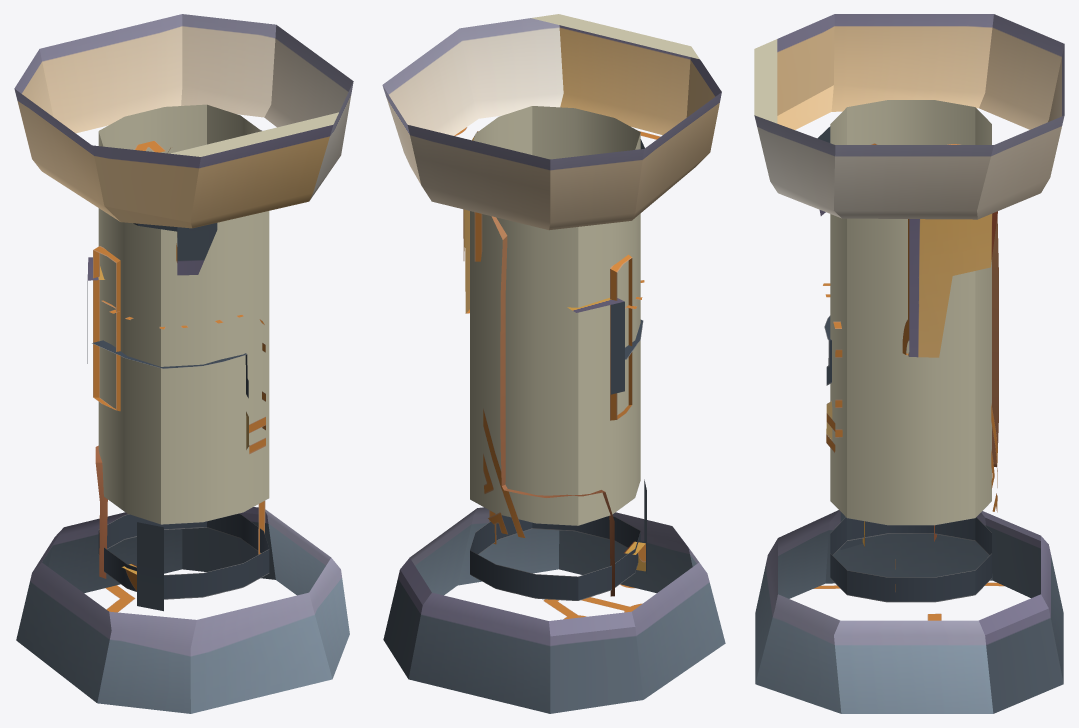
File: MODEL_HubProp.fbx
3 renders of one model, left to right at view 1: azimuth 30°, elevation 25°; view 2: azimuth 150°, elevation 25°; view 3: azimuth 270°, elevation 25°, orthographic. The views are drawn at different scales.
Visible parts, largest first — view 1: Cube; view 2: Cube; view 3: Cube.
Boxes of the visible parts, bbox=[...] form: Cube: bbox=[14, 14, 353, 713]; Cube: bbox=[382, 14, 725, 713]; Cube: bbox=[754, 14, 1064, 713].
Size of the model in its own units: 247 by 501 by 247.
